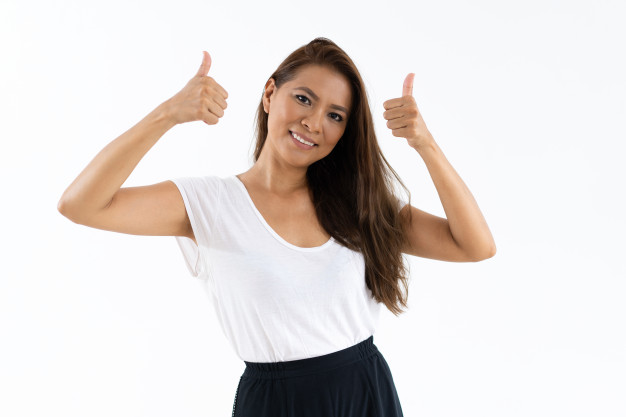thumbsup: (193, 51, 228, 125), (383, 72, 417, 137)
